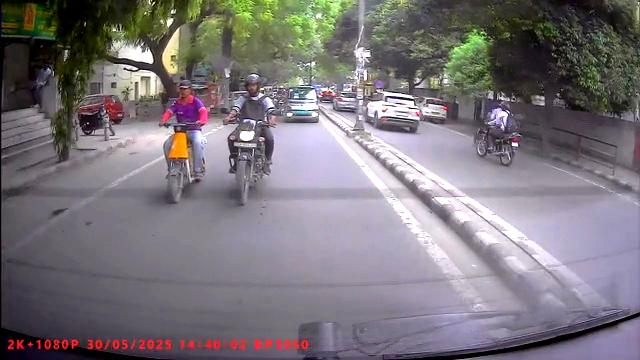motorcycle_with_helmet: (222, 72, 275, 206)
motorcycle_without_helmet: (157, 77, 210, 203)
